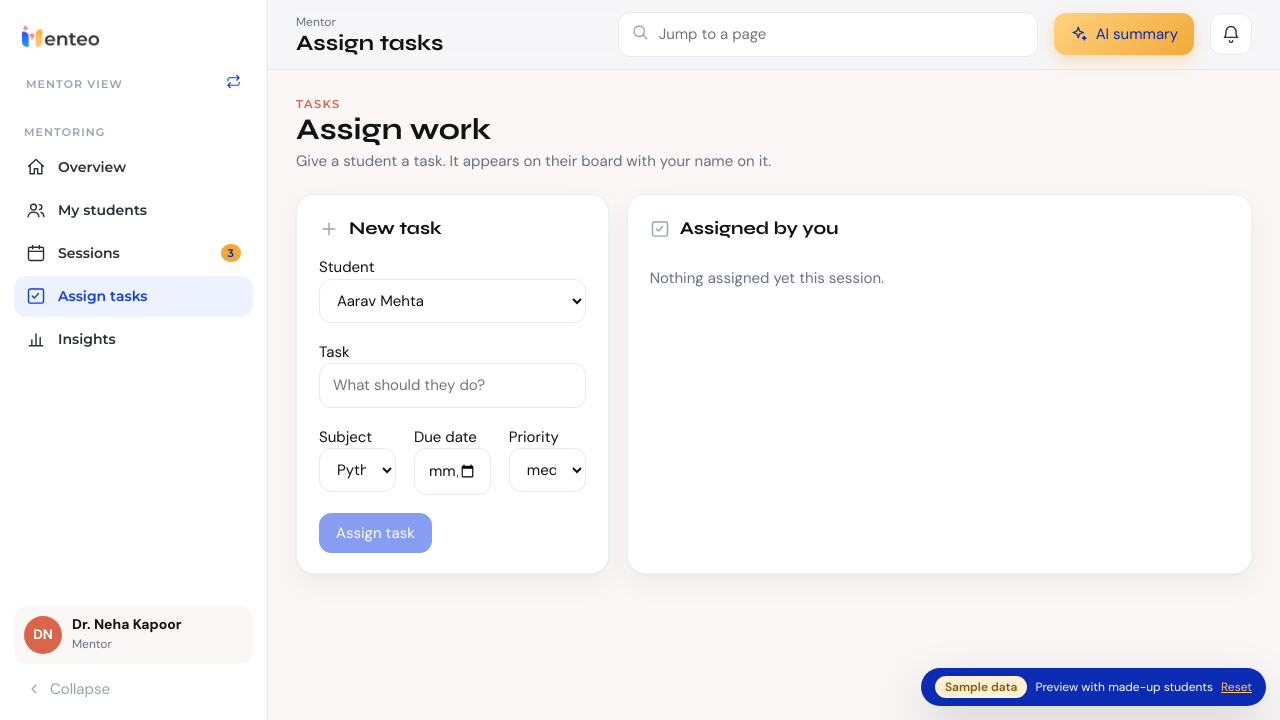
it: platform dashboards › lets a mentor assign a task and the choice persists
Type "Read chapter 3" into the field with placeholder "What should they do?" at (452, 386), box [319,363,586,408]
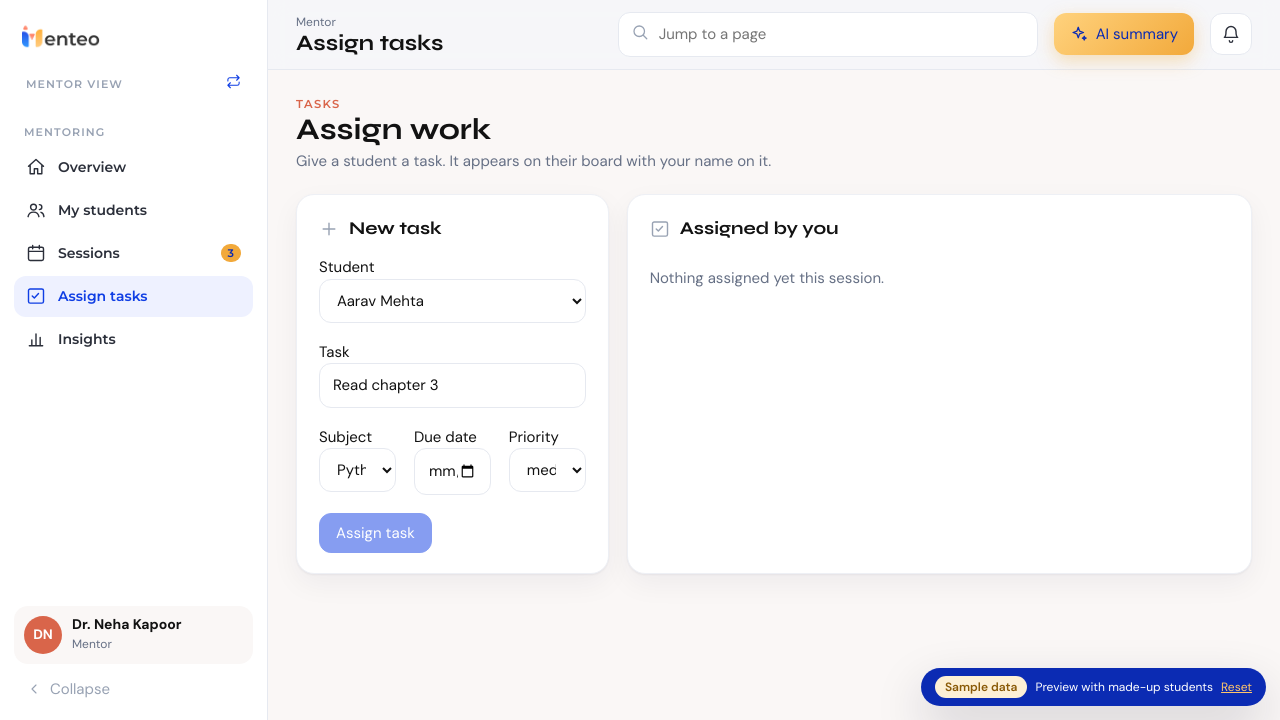
Type "2030-01-05" into the date field labelled "Due date" at (452, 472), box [414,448,491,495]
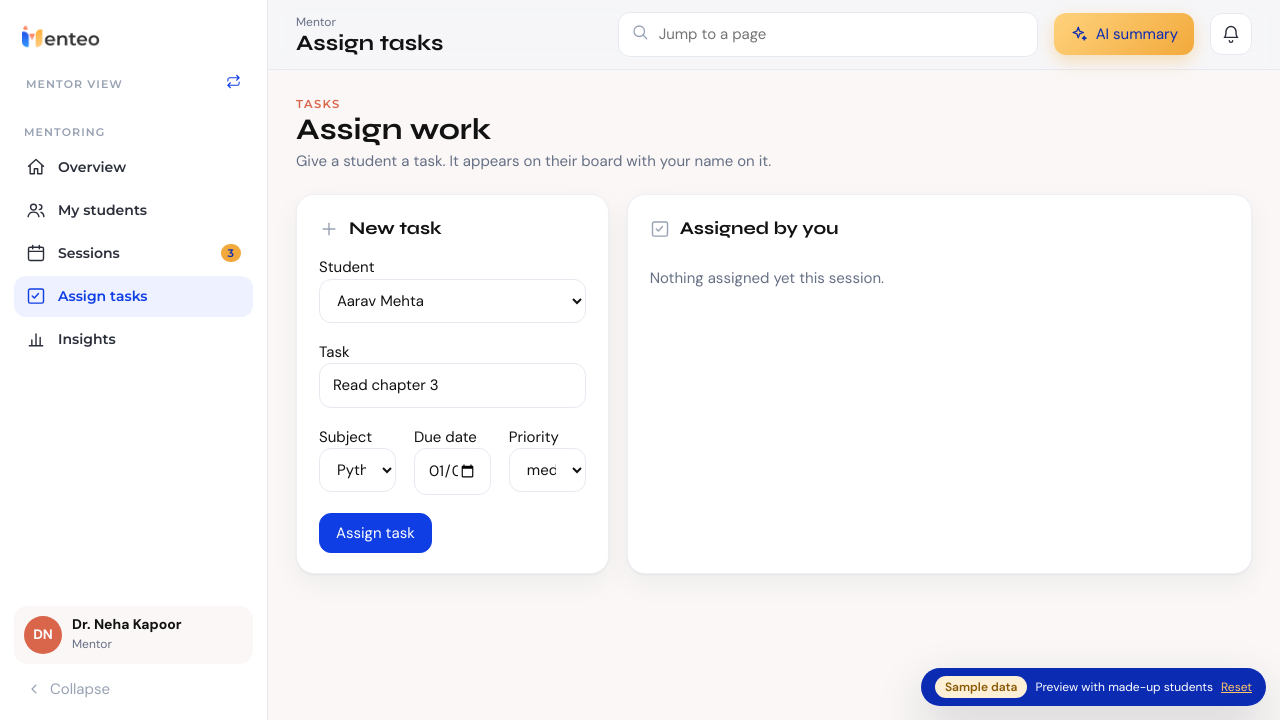
Click the button "Assign task" at (375, 533), box [319,513,432,553]
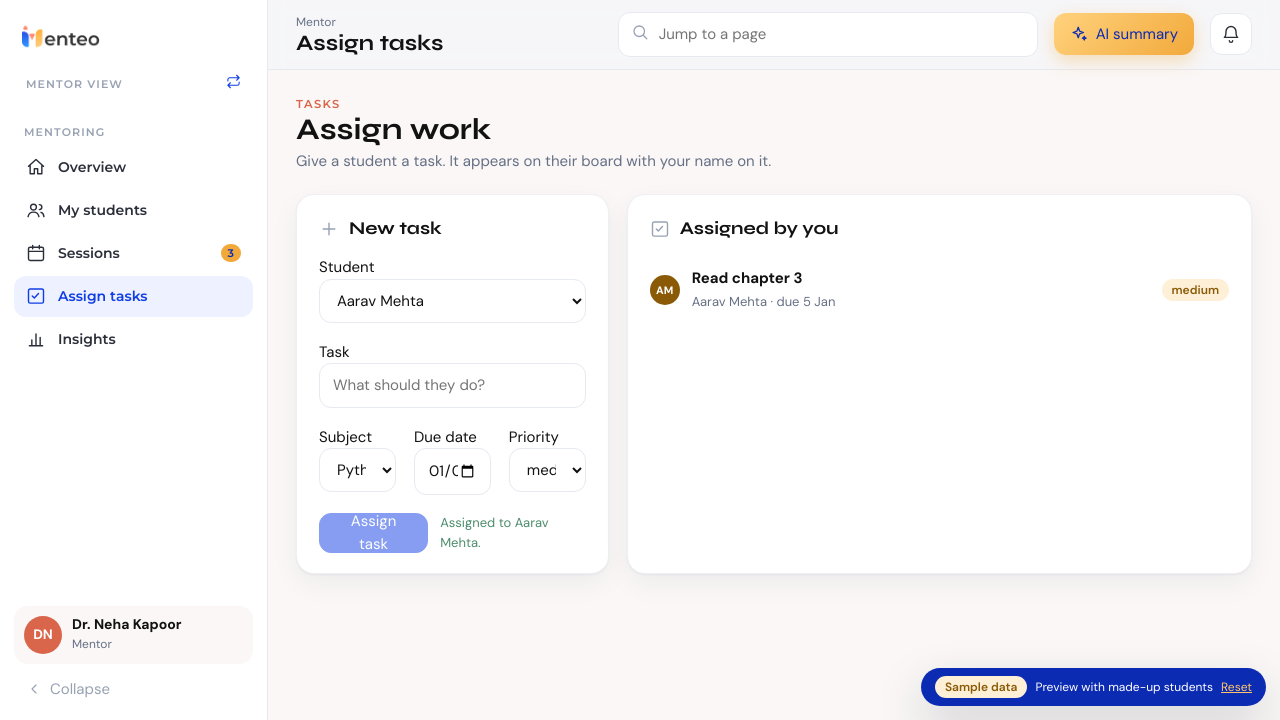
Now the message "Assigned to Aarav Mehta." is shown, box [440,514,549,551]
Now the text "Read chapter 3" is shown, box [692,268,803,288]
